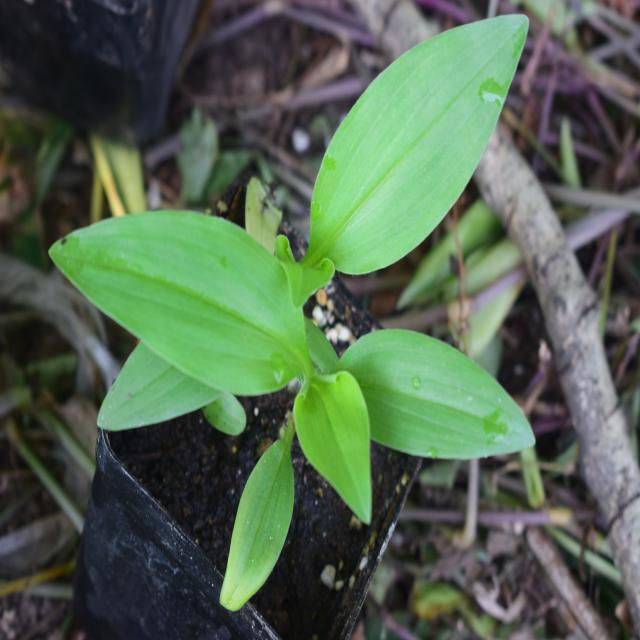Common Dayflower: (61, 206, 520, 533), (301, 17, 535, 235)
